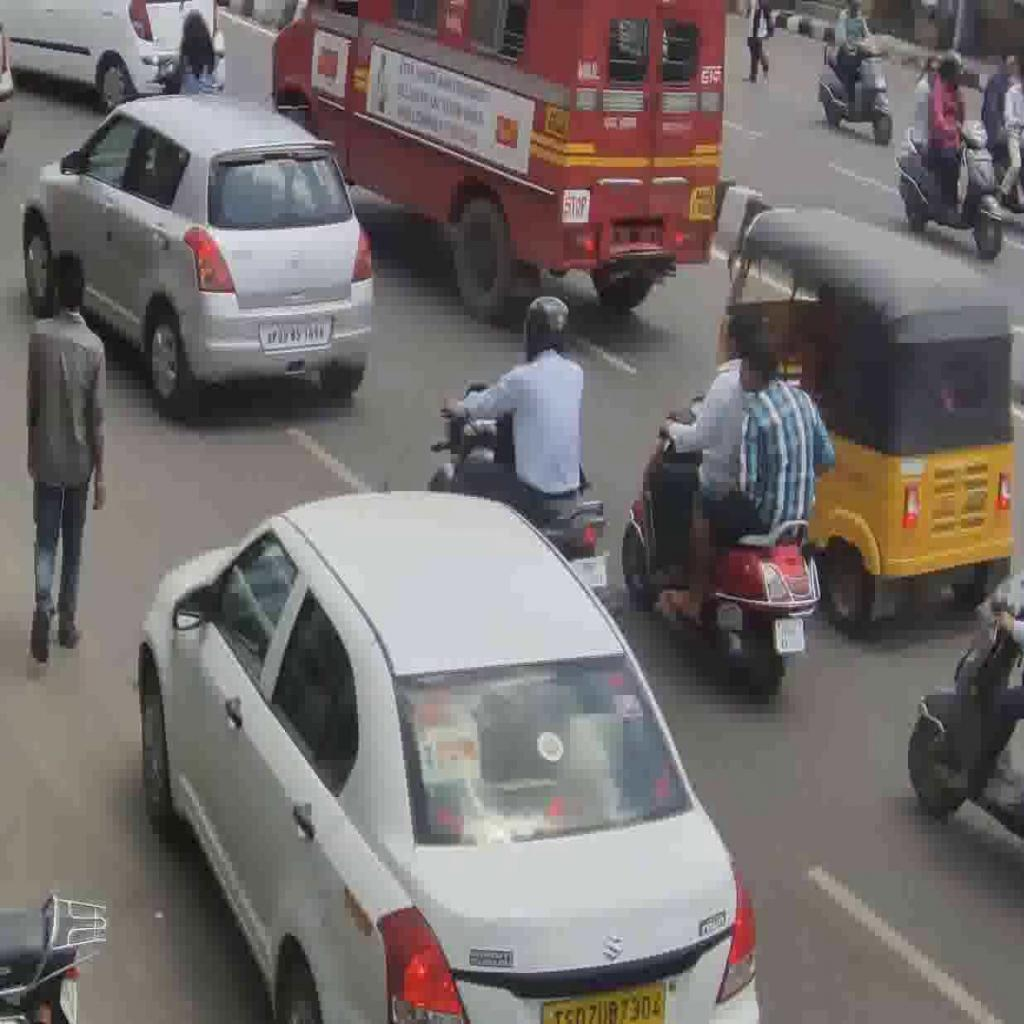helmet: (621, 391, 822, 701), (426, 378, 626, 627)
